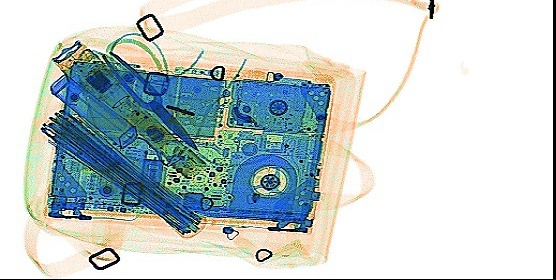scissors: (79, 37, 199, 153)
zippooil: (48, 72, 136, 148)
